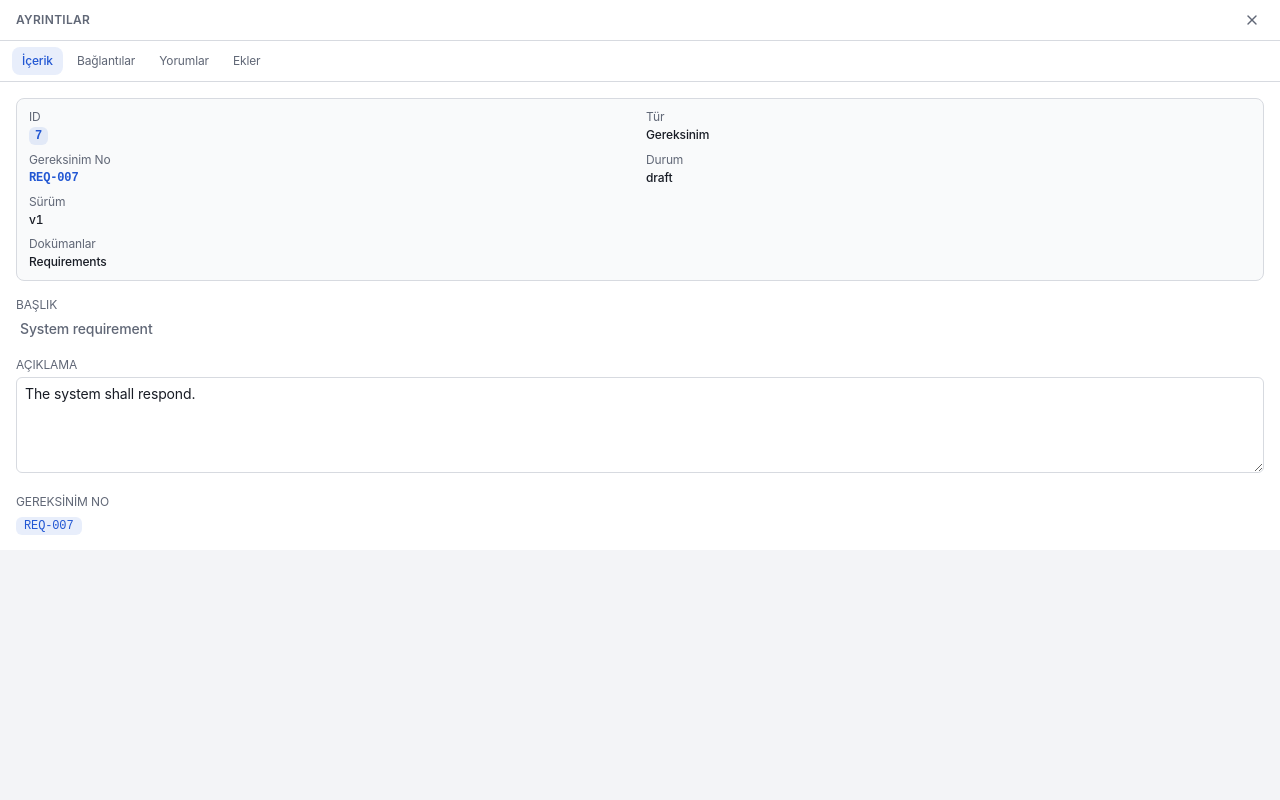
RowDetailPanel › keeps content, links, comments and attachments in separate detail tabs
This screenshot has width=1280, height=800.
expect the text box with test id "detail-description" is shown: met, box [16, 377, 1264, 473]
Click the tab with test id "detail-tab-links".
click(106, 61)  # box [67, 47, 145, 75]
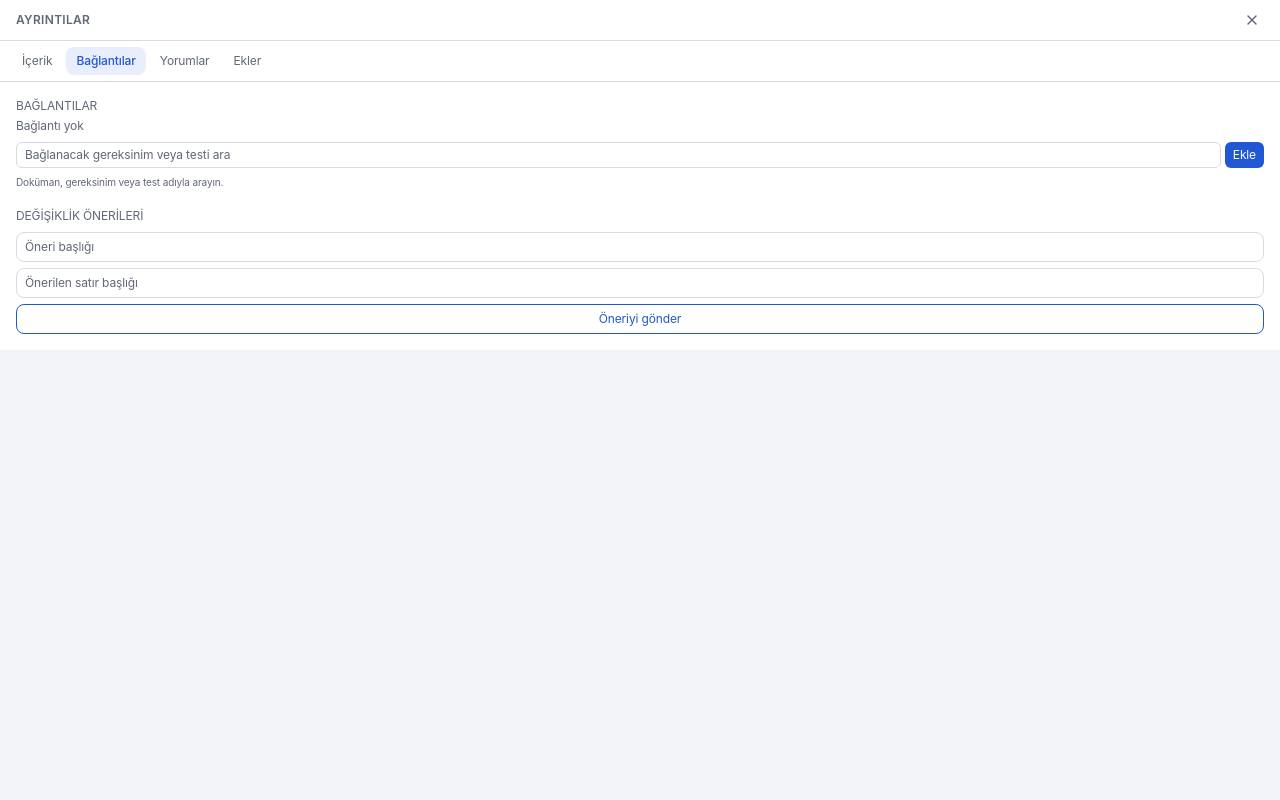
expect the field with test id "link-target" is shown: met, box [16, 142, 1221, 168]
expect the text box with test id "detail-description" is gone: met
Click the tab with test id "detail-tab-comments".
click(185, 61)  # box [150, 47, 220, 75]
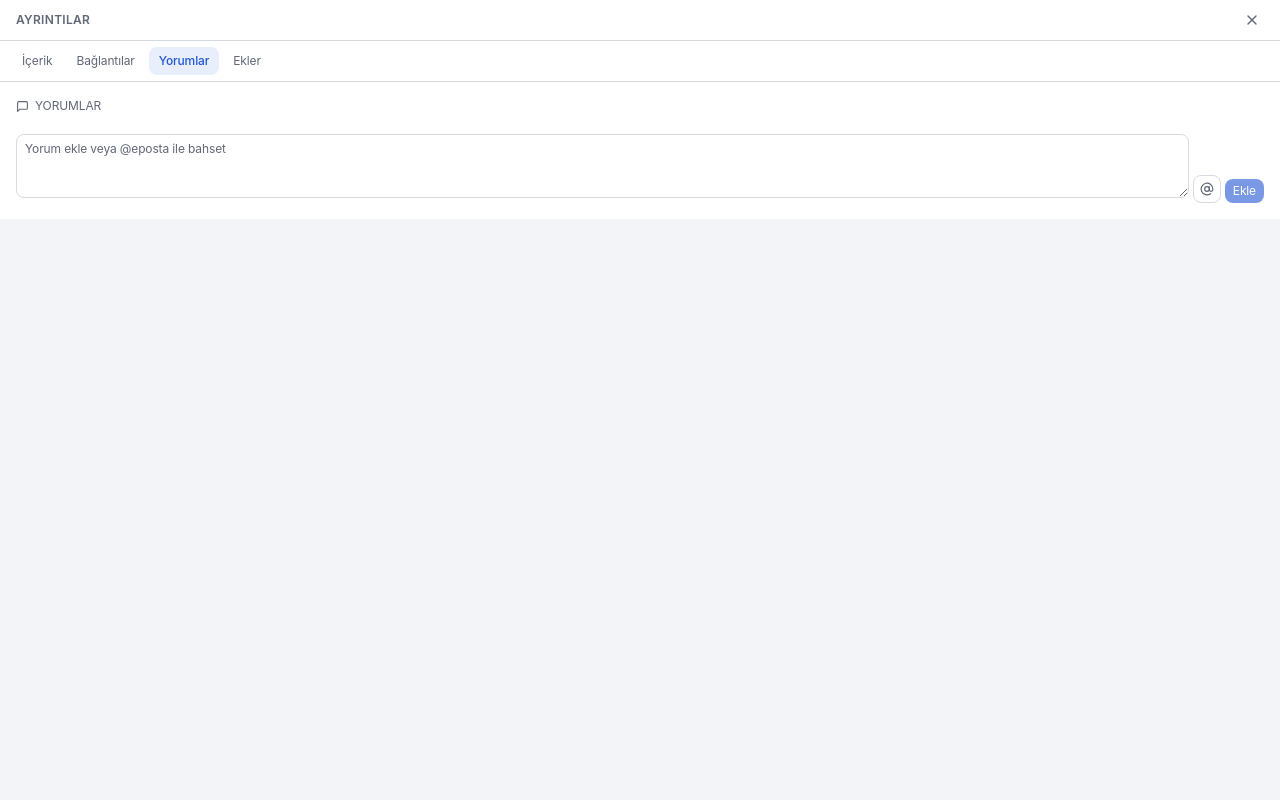
expect the text box with test id "comment-input" is shown: met, box [16, 134, 1189, 198]
Click the tab with test id "detail-tab-attachments".
click(247, 61)  # box [223, 47, 271, 75]
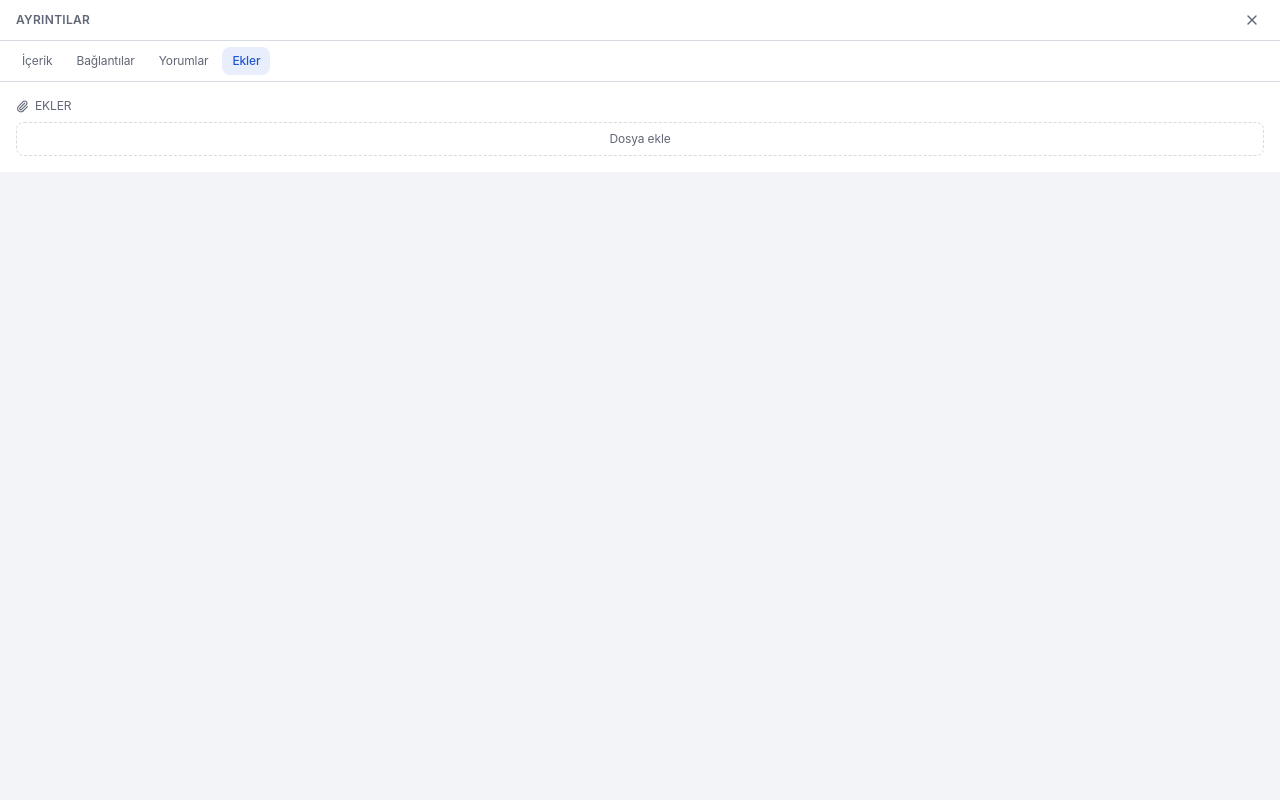
expect the file field with test id "attachment-input" is shown: met, box [16, 122, 1264, 156]
